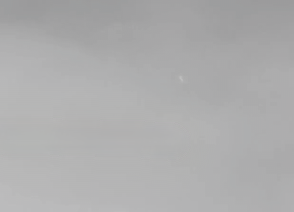Target: (180, 77, 182, 81)
